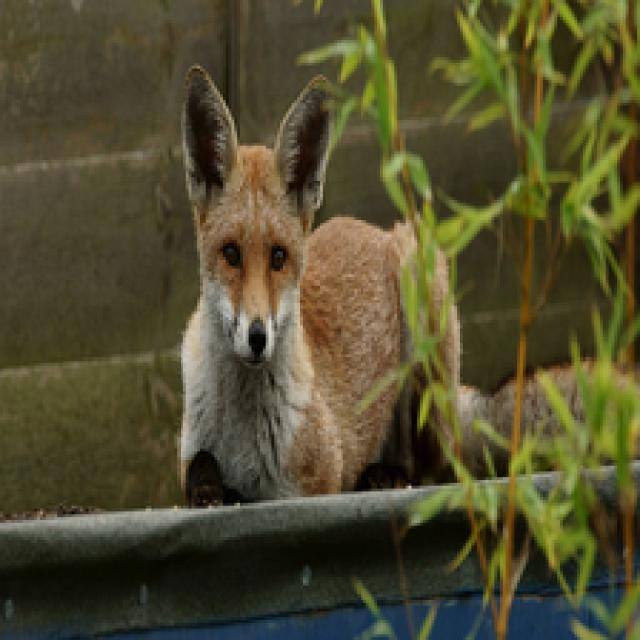fox: (129, 62, 640, 492)
